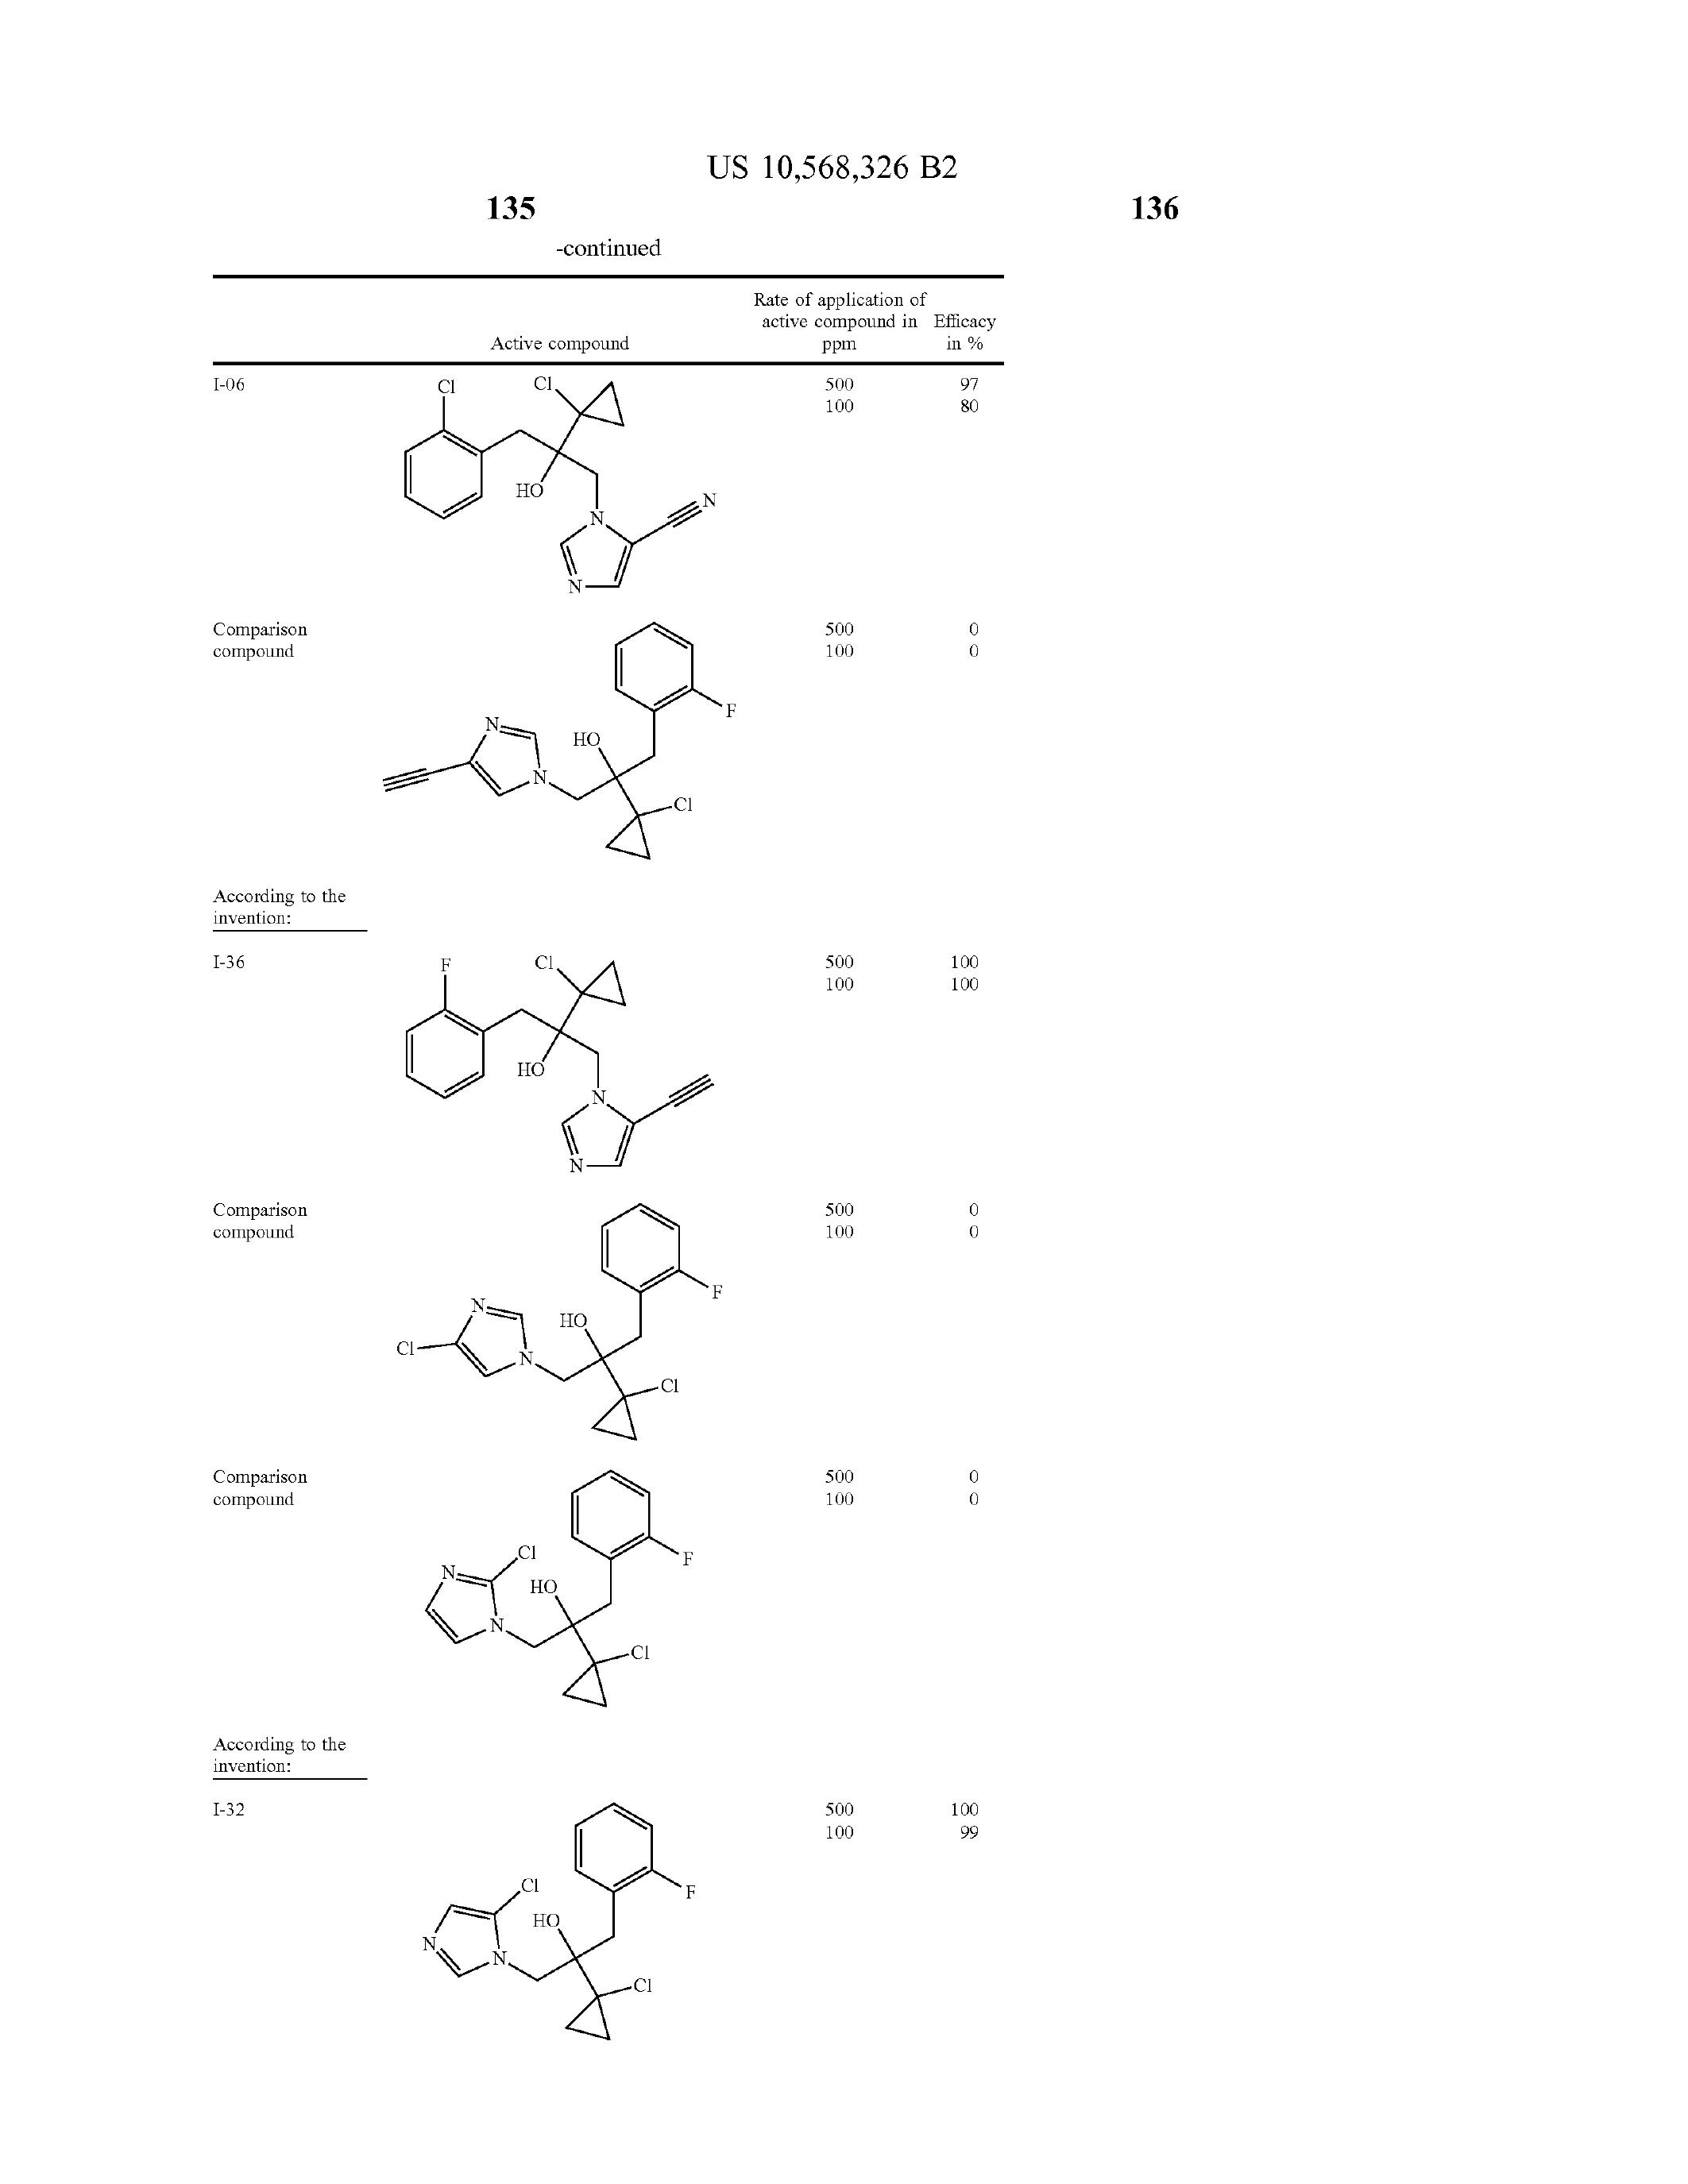relevant-structures: (337, 1783, 817, 2170), (365, 619, 794, 901), (387, 1445, 755, 1759), (381, 922, 750, 1193), (374, 1202, 766, 1436), (383, 365, 752, 610)
